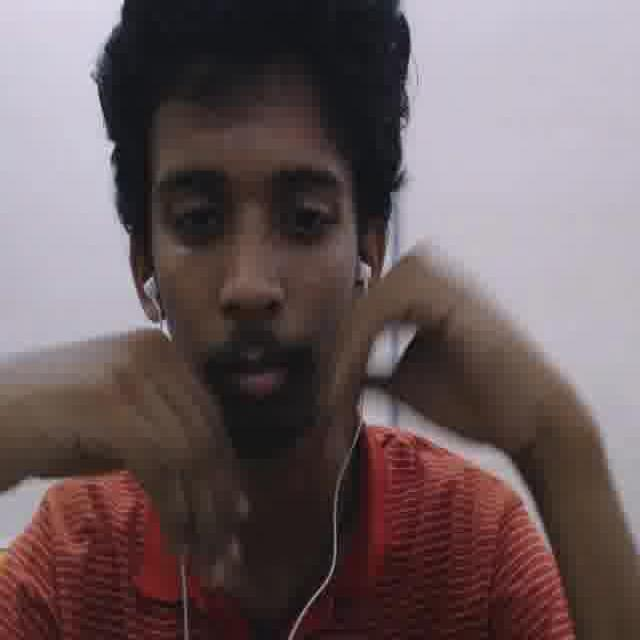Frustration: (141, 77, 358, 443)
